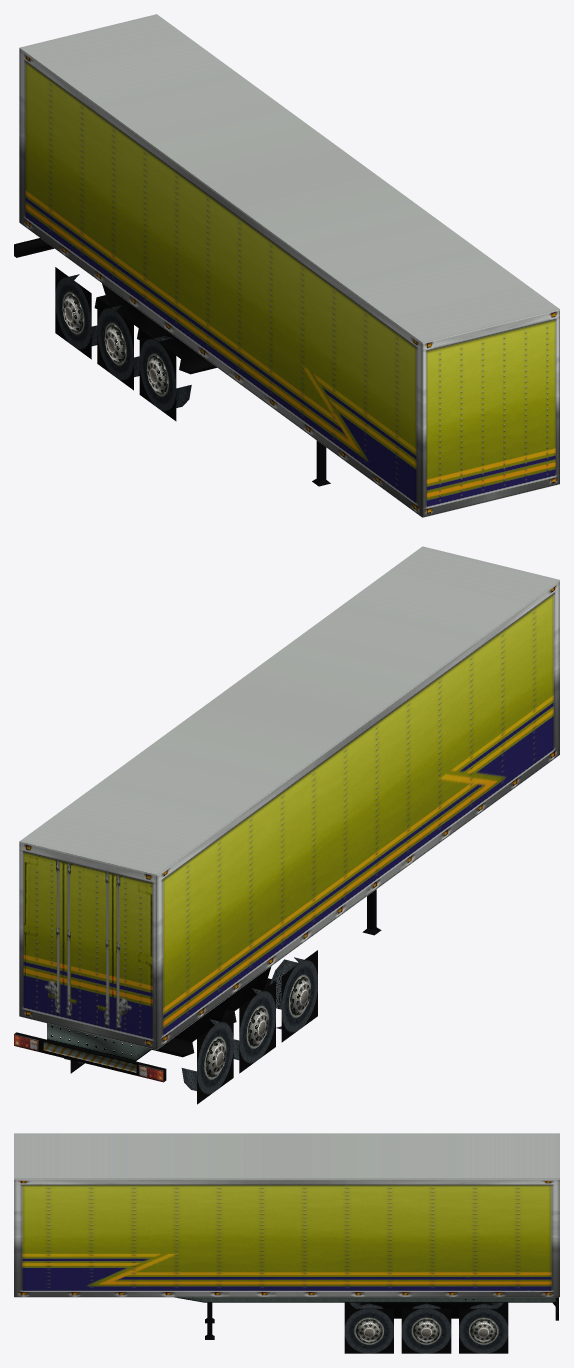
Rendered from strailer.glb.
The picture shows the model from 3 angles, top to bottom: view 1: azimuth 30°, elevation 25°; view 2: azimuth 150°, elevation 25°; view 3: azimuth 270°, elevation 25°; orthographic projection. The views are drawn at different scales.
Visible parts, largest first — view 1: body, wheel_B_R1, wheel_B_R3, wheel_B_R2; view 2: body, wheel_B_R1, wheel_B_R3, wheel_B_R2, bumper_B; view 3: body, wheel_B_L2, wheel_B_L3, wheel_B_L1.
Boxes of the visible parts, x1,y1,x2,y2 form: body: (19,14,559,517); wheel_B_R1: (139,329,191,421); wheel_B_R3: (55,267,97,359); wheel_B_R2: (97,298,139,390); body: (19,546,559,1061); wheel_B_R1: (269,950,317,1042); wheel_B_R3: (181,1012,233,1104); wheel_B_R2: (233,981,275,1073); bumper_B: (14,1032,166,1082); body: (14,1133,559,1318); wheel_B_L2: (401,1303,451,1353); wheel_B_L3: (459,1303,508,1353); wheel_B_L1: (344,1303,393,1353).
Bounding box in the file's own units: 2.76 × 4.43 × 12.6.
Materials: 9 (8 with a texture image).
